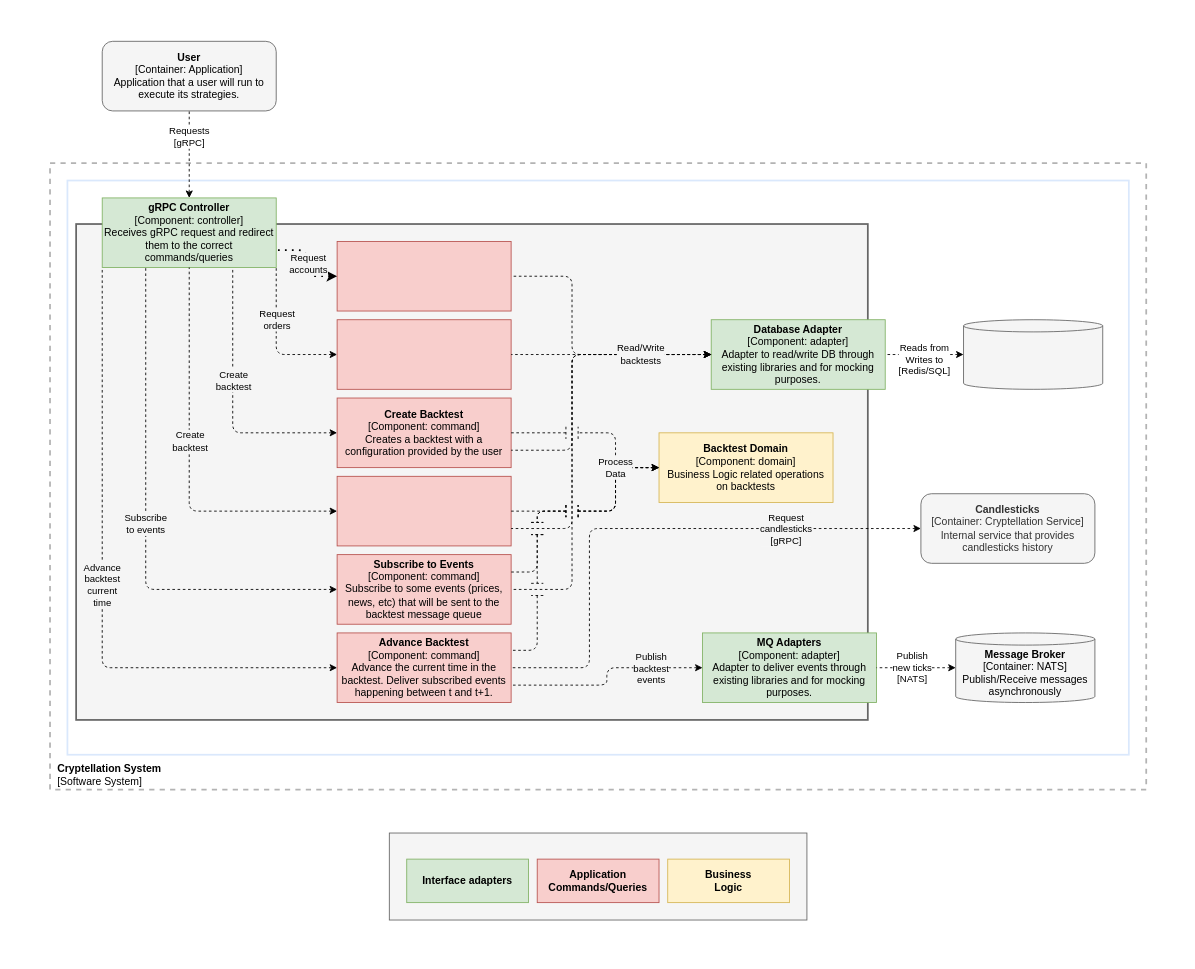
This 1195x969 diagram has some shape labels left out. Each missing label, with the box of its shape:
Application [Container]: (75, 223, 868, 720)
Backtests [Microservice]: (66, 179, 1129, 755)
Create Order [Component: command] Creates a backtest order to buy or sell assets: (336, 475, 511, 546)
Database [Container: Redis/SQL] Store backtests informations: (963, 319, 1103, 389)
Get Accounts [Component: query] Get a detailed list of a backtest accounts: (336, 241, 511, 311)
Get Orders [Component: query] Get a detailed list of a backtest orders: (336, 319, 511, 389)
Legende: (388, 832, 807, 920)
